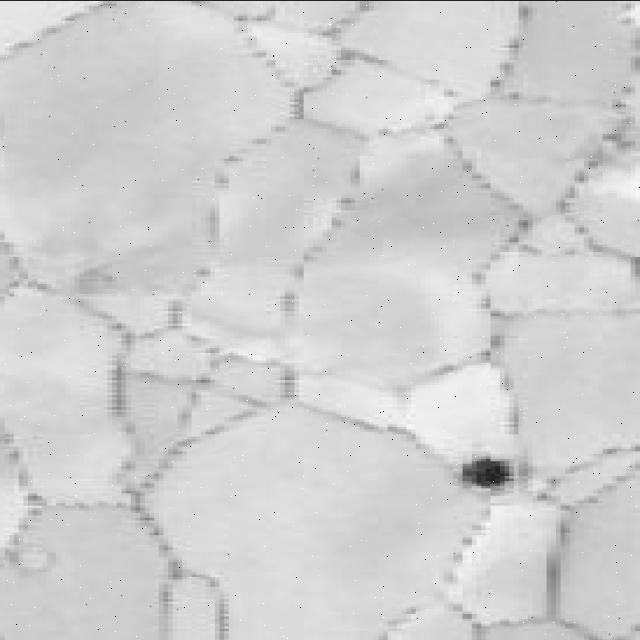good_void: (453, 453, 519, 492)
